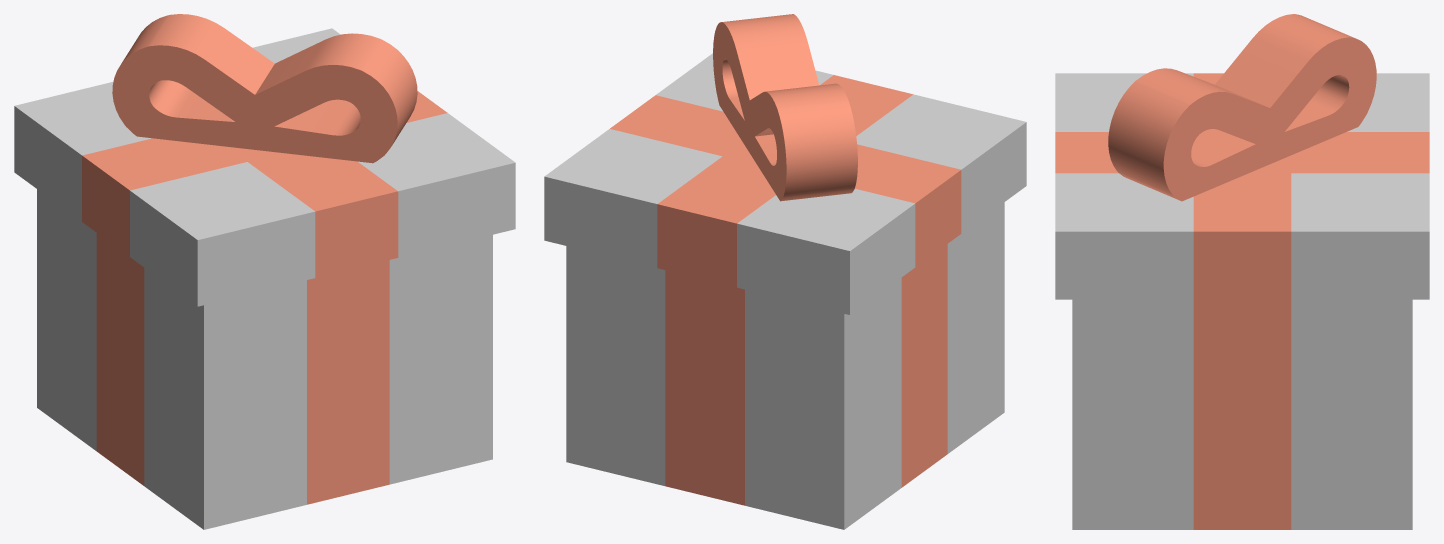
The model's file is present.glb.
The picture shows the model from 3 angles, left to right: view 1: azimuth 30°, elevation 25°; view 2: azimuth 150°, elevation 25°; view 3: azimuth 270°, elevation 25°; orthographic projection. The views are drawn at different scales.
Parts seen in each view (by area): view 1: Mesh present, Mesh lid, tie; view 2: Mesh present, Mesh lid, tie; view 3: Mesh present, Mesh lid, tie.
Part boxes in pixels (left/top/right/bottom): Mesh present: left=37, top=189, right=492, bottom=529; Mesh lid: left=14, top=28, right=515, bottom=306; tie: left=112, top=14, right=417, bottom=163; Mesh present: left=566, top=202, right=1004, bottom=529; Mesh lid: left=544, top=53, right=1026, bottom=314; tie: left=713, top=14, right=857, bottom=201; Mesh present: left=1072, top=299, right=1412, bottom=529; Mesh lid: left=1055, top=73, right=1429, bottom=299; tie: left=1108, top=14, right=1376, bottom=201.
Size of the model in its own units: 0.3727 by 0.4412 by 0.3727.
